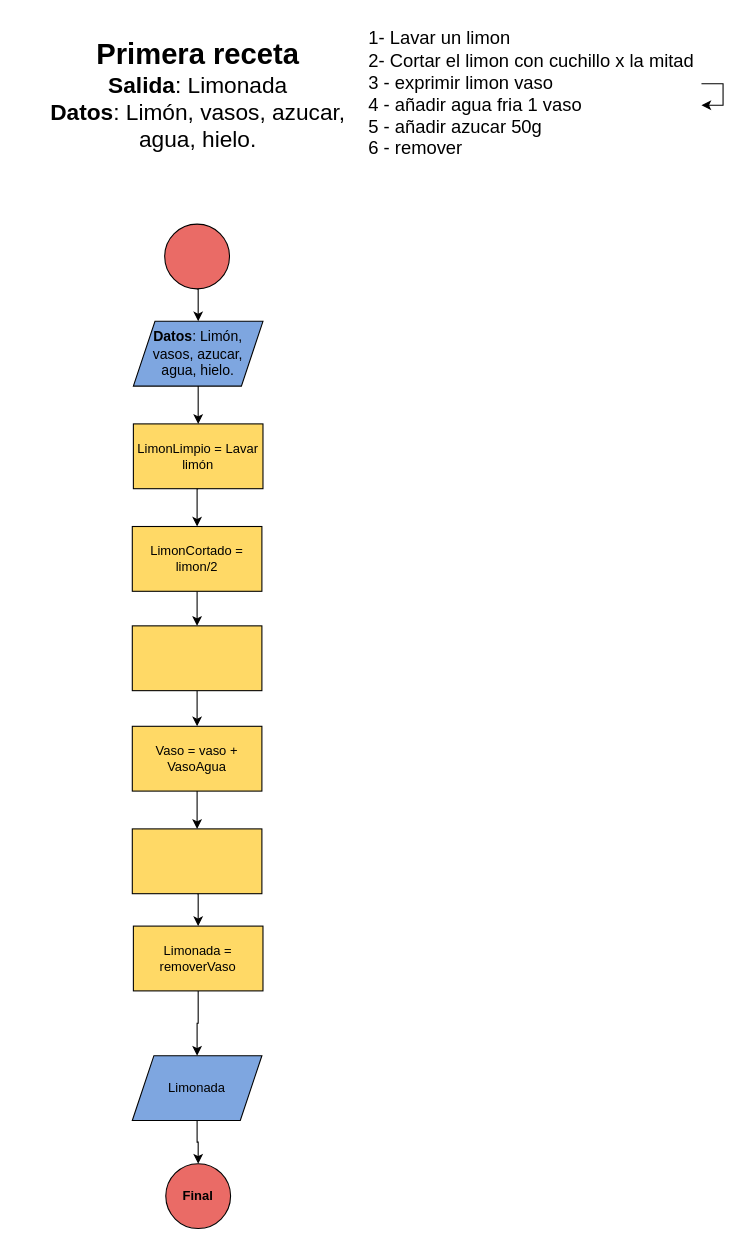
Image size: 751x1247. Some labels were removed from this diagram. The shapes that lost their labels are listed below. From the top down, each one's box as (x1, y1, x2, y2) in pixels, then its label:
(164, 223, 230, 289): Inicio
(131, 625, 262, 691): Vaso = Exprimir limón
(131, 828, 262, 894): vaso = vaso + azucar50g
